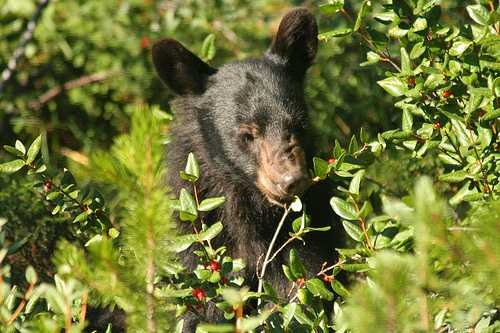bear: (215, 93, 343, 221), (133, 7, 261, 135), (232, 1, 360, 128)
